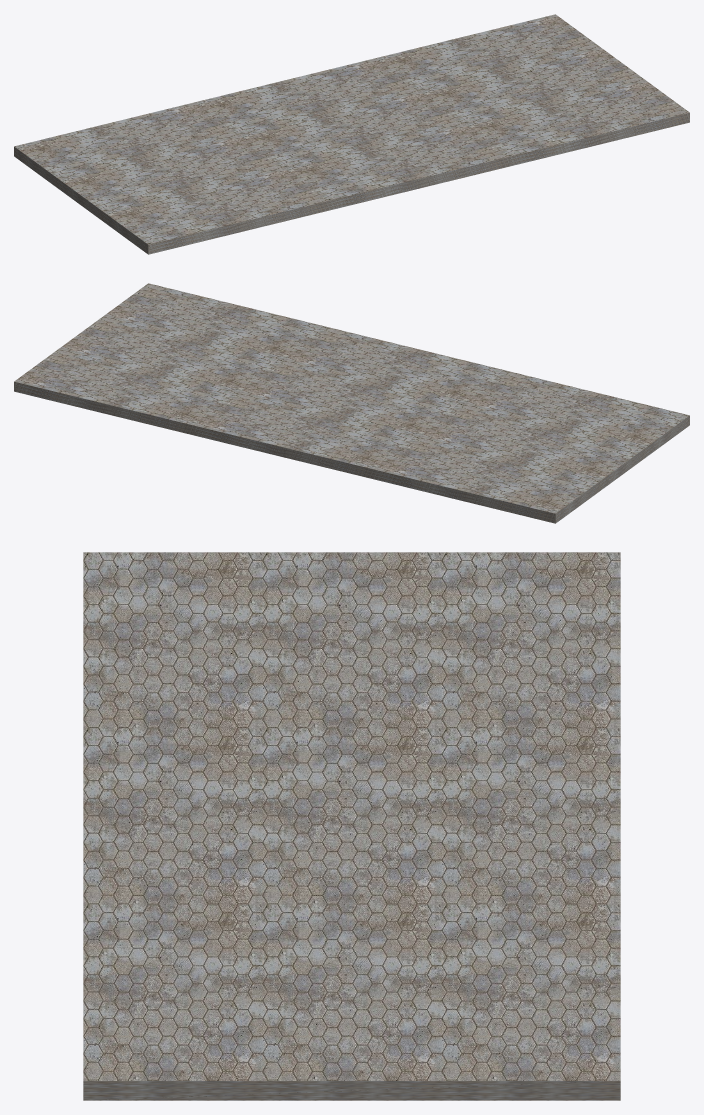
The model's file is vereda.FBX.
The picture shows the model from 3 angles, top to bottom: view 1: azimuth 30°, elevation 25°; view 2: azimuth 150°, elevation 25°; view 3: azimuth 270°, elevation 25°; orthographic projection. The views are drawn at different scales.
Parts seen in each view (by area): view 1: Box002; view 2: Box002; view 3: Box002.
Boxes of the visible parts, bbox=[...] form: Box002: bbox=[14, 14, 689, 254]; Box002: bbox=[14, 283, 689, 523]; Box002: bbox=[83, 552, 620, 1100].
Size of the model in its own units: 8622 by 151 by 3706.
Materials: 1 (1 with a texture image).
